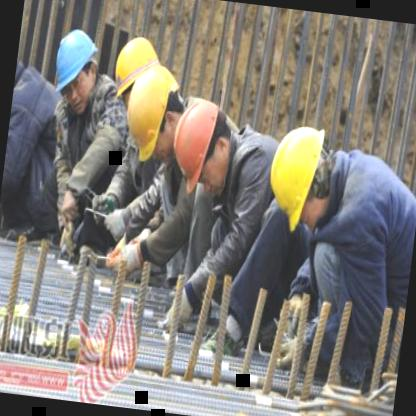helmet: (262, 119, 334, 226), (164, 95, 236, 191), (122, 60, 188, 164), (108, 30, 162, 134), (44, 22, 104, 113)
